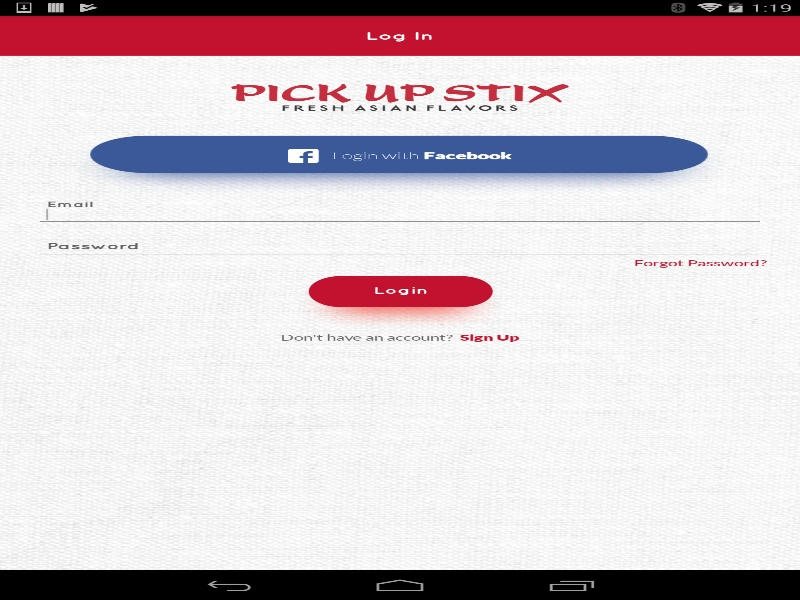Button: (298, 274, 501, 329)
Input: (40, 237, 760, 254), (40, 206, 760, 221)
